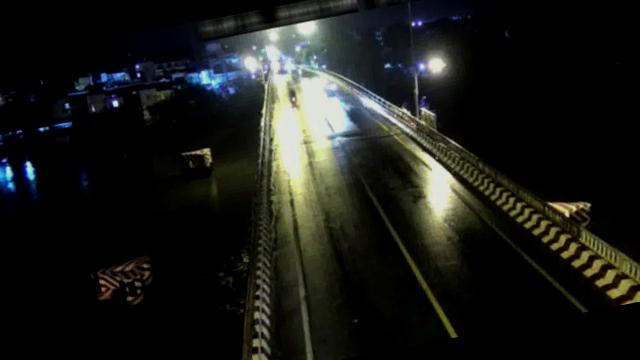Bike: (286, 84, 301, 108)
